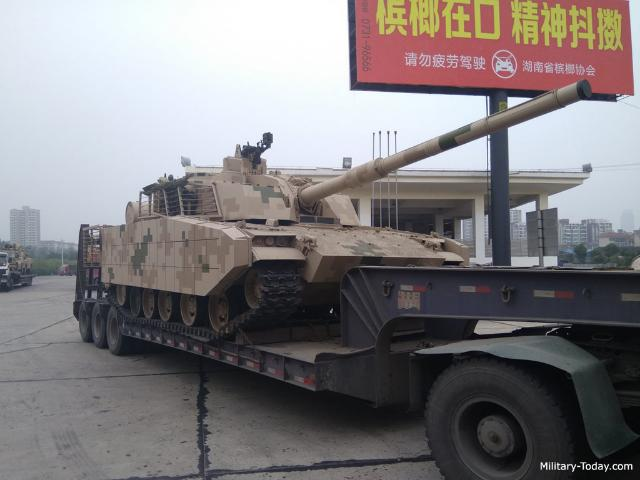tank: (100, 174, 416, 316)
